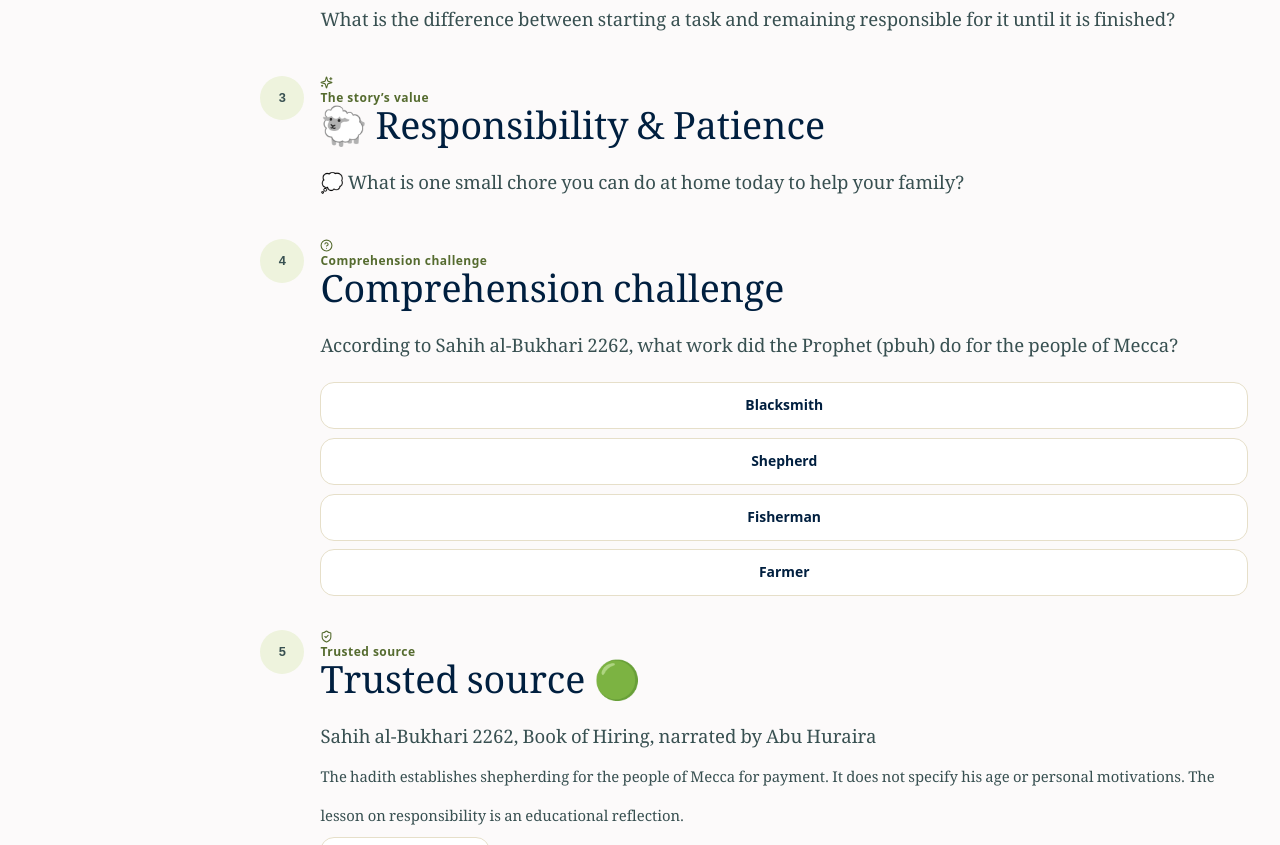
Station 1 Seerah content pilot › shows the source-aligned English record and awards the keepsake only after the answer
This screenshot has width=1280, height=845.
(page scrolled)
Expected: the text "The Shepherd's Staff" is not shown
Click the button "Blacksmith": [784, 406] box [320,382,1248,429]
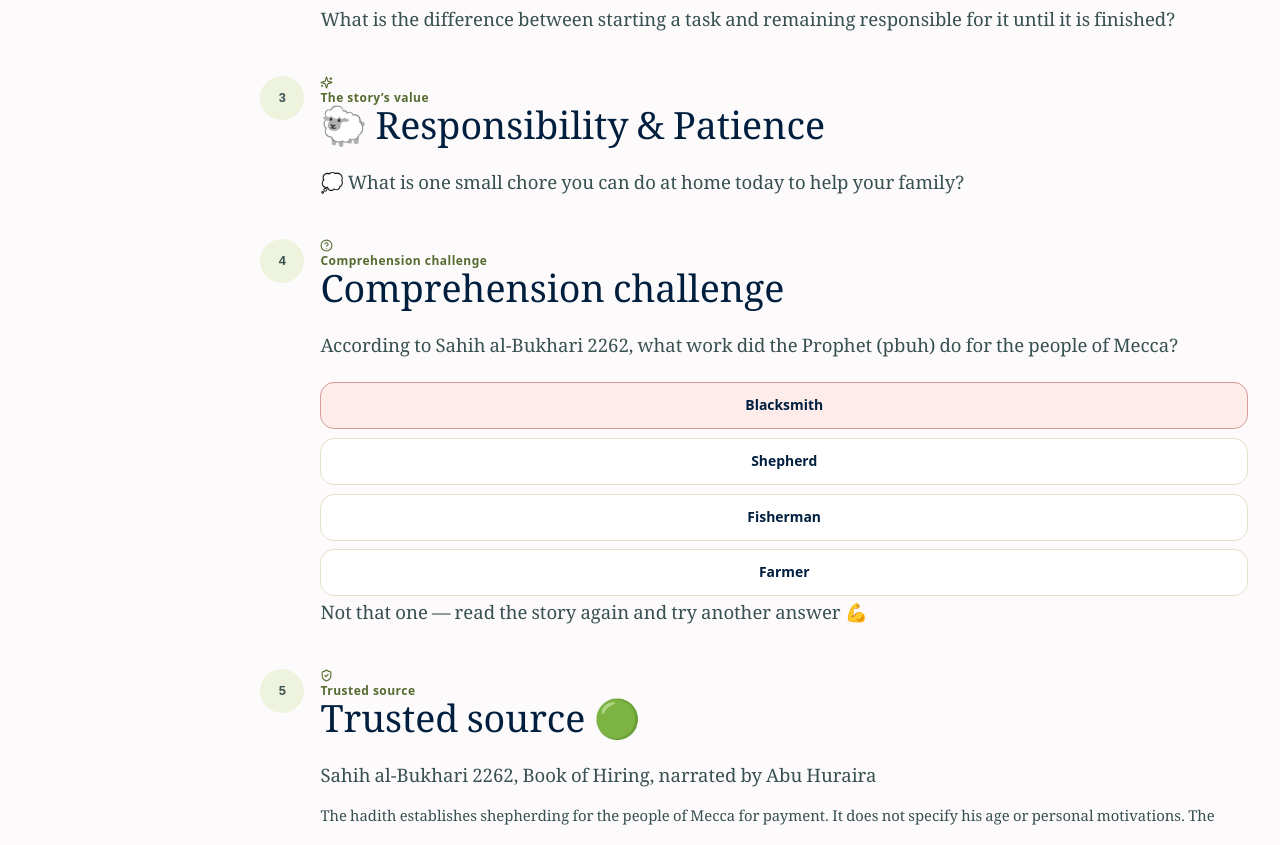
Expected: the text "The Shepherd's Staff" is not shown
Click the button "Shepherd": [784, 462] box [320,438,1248,485]
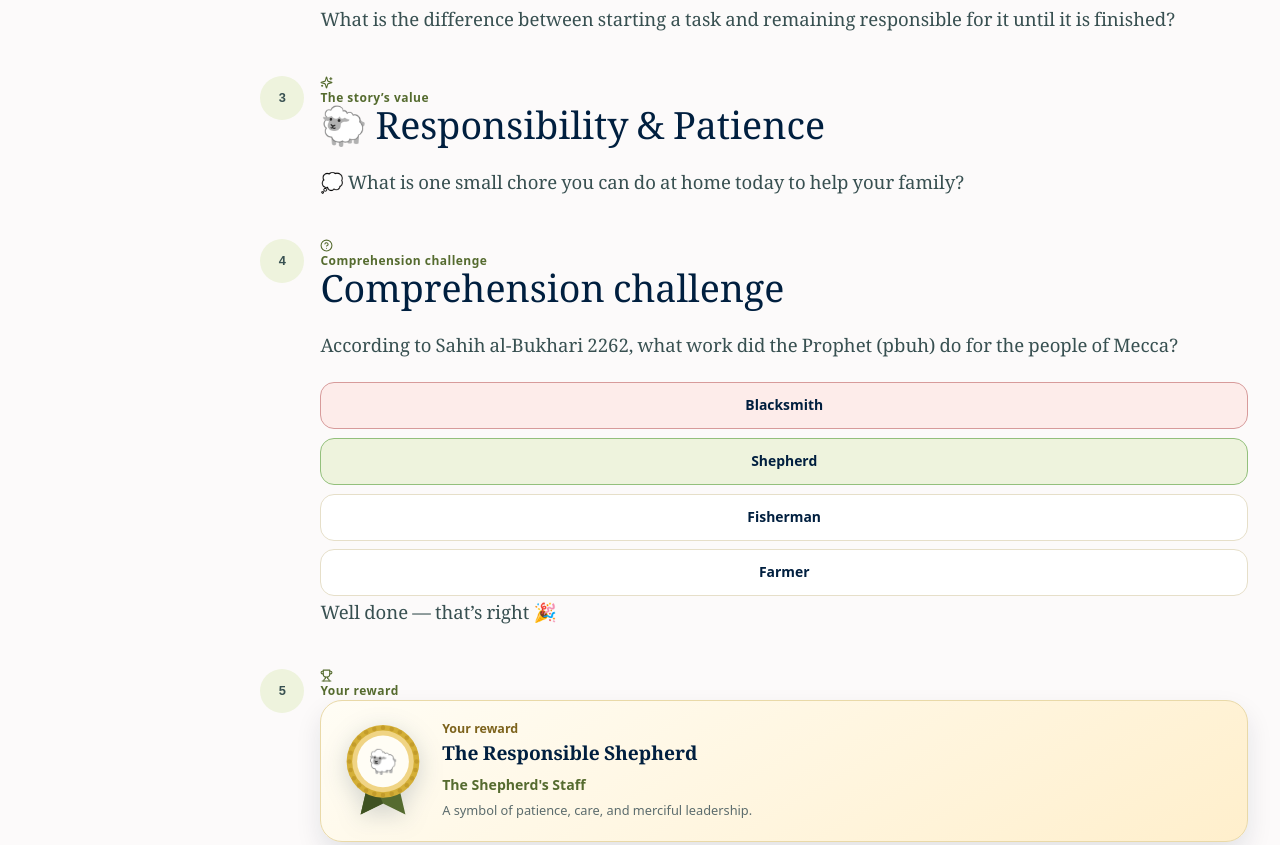
Expected: the text "The Shepherd's Staff" is shown, [442,775,586,794]
